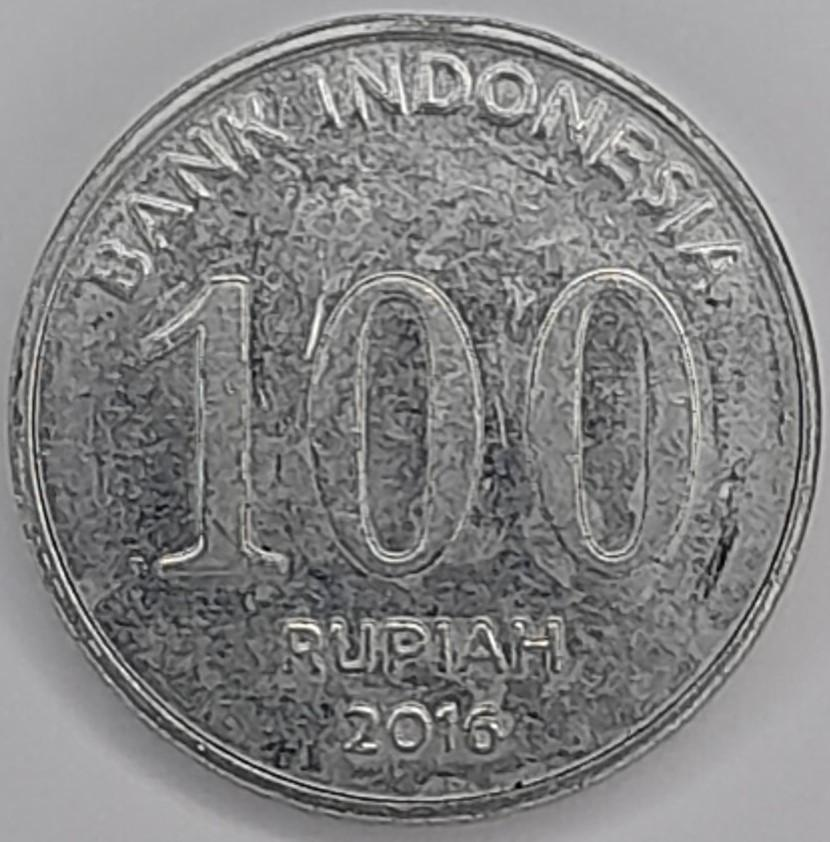coin_100_e2016: (2, 6, 827, 827)
